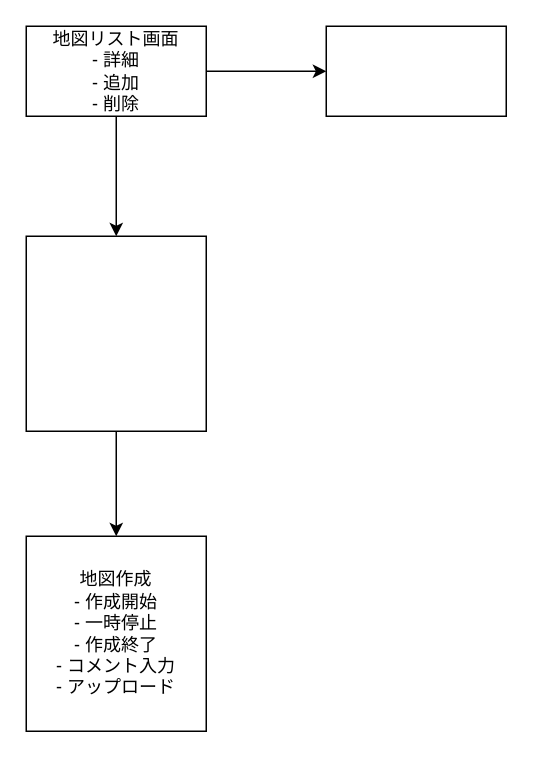
Image size: 533x758. Some labels were removed from this diagram. The box of each missing label's shape, as (x1, y1, x2, y2) in pixels:
地図詳細 - 名前変更: (325, 25, 506, 116)
地図追加 - 名前入力: (25, 235, 206, 431)
